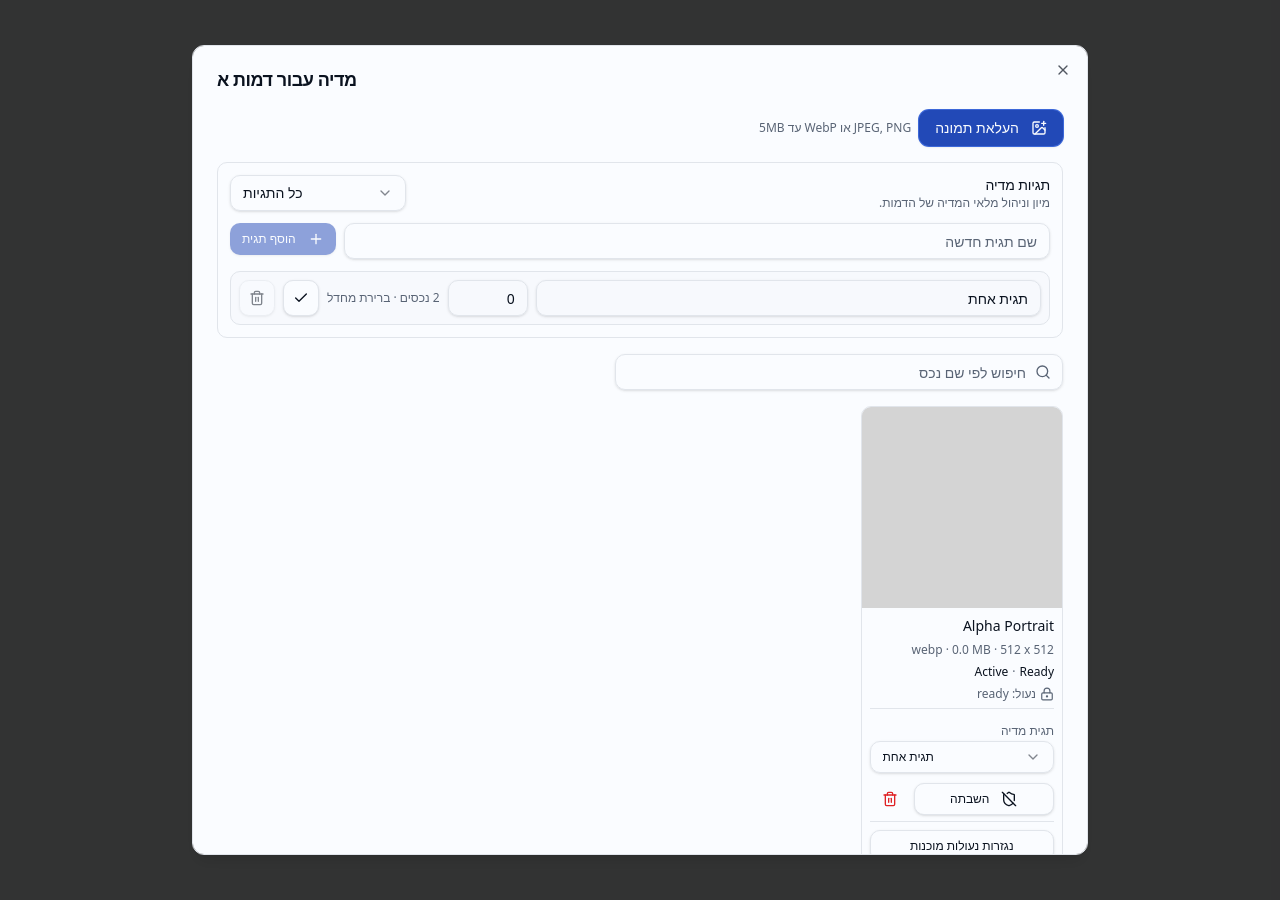
admin character media read states › preserves tag drafts and selection when a cached tags refresh fails
This screenshot has width=1280, height=900.
Step 1. Replace the text in the field showing "תגית אחת" with "טיוטה שלא תאבד" → (788, 298), box [536,280,1041,316]
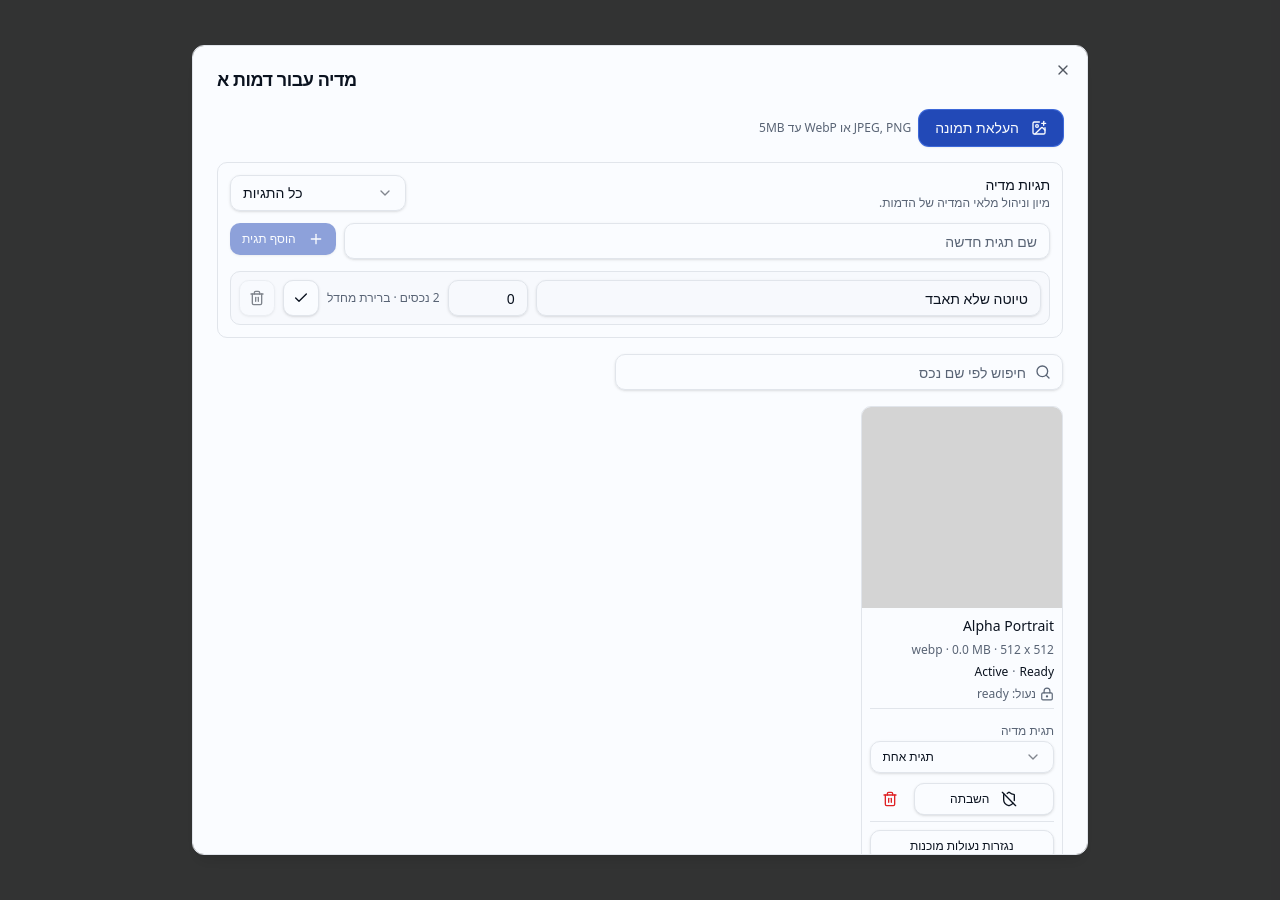
Step 2. Press ArrowDown in the dropdown named "סינון לפי תגית", box [230,175,406,211]
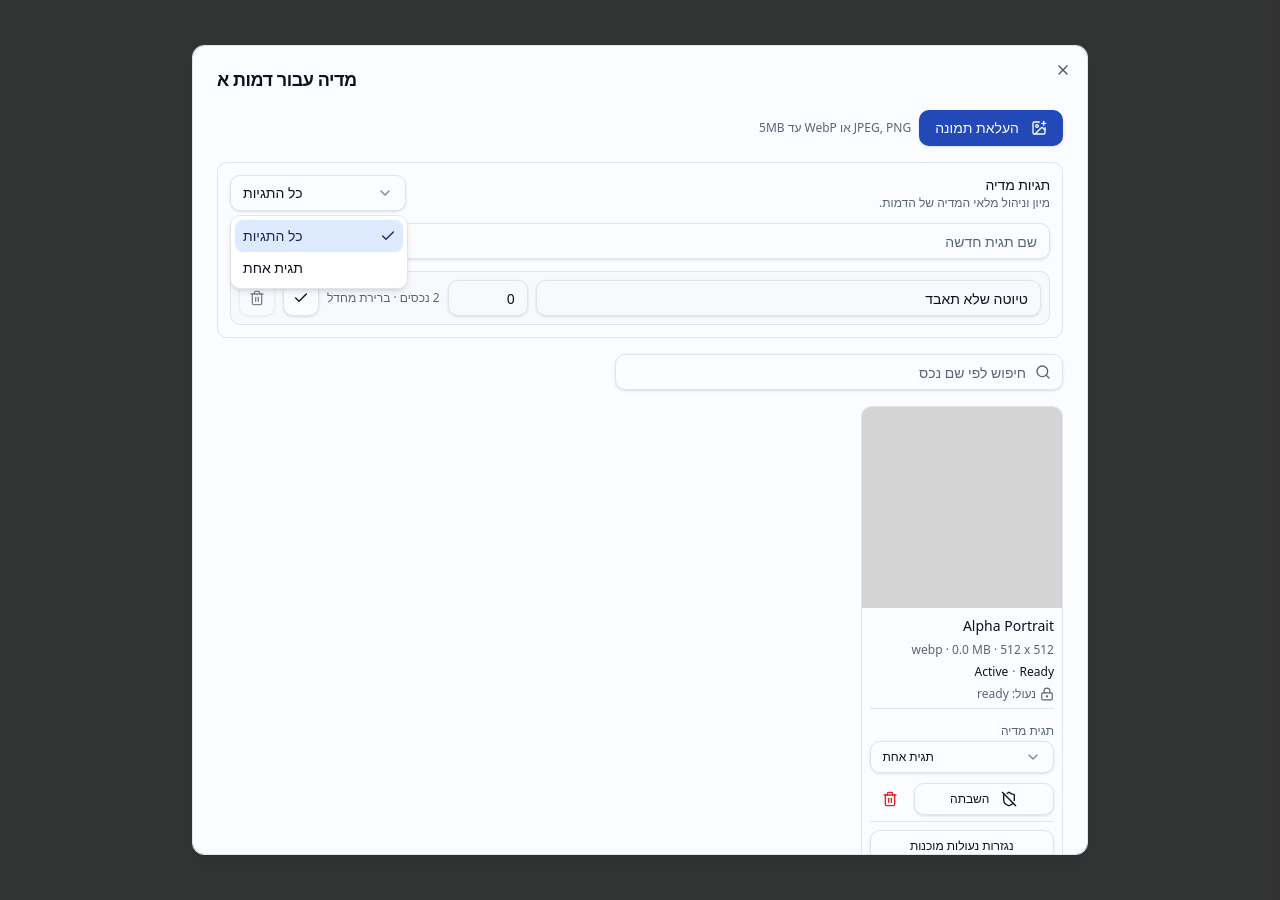
Step 3. Click the option "תגית אחת" → (273, 268), box [243,258,303,277]
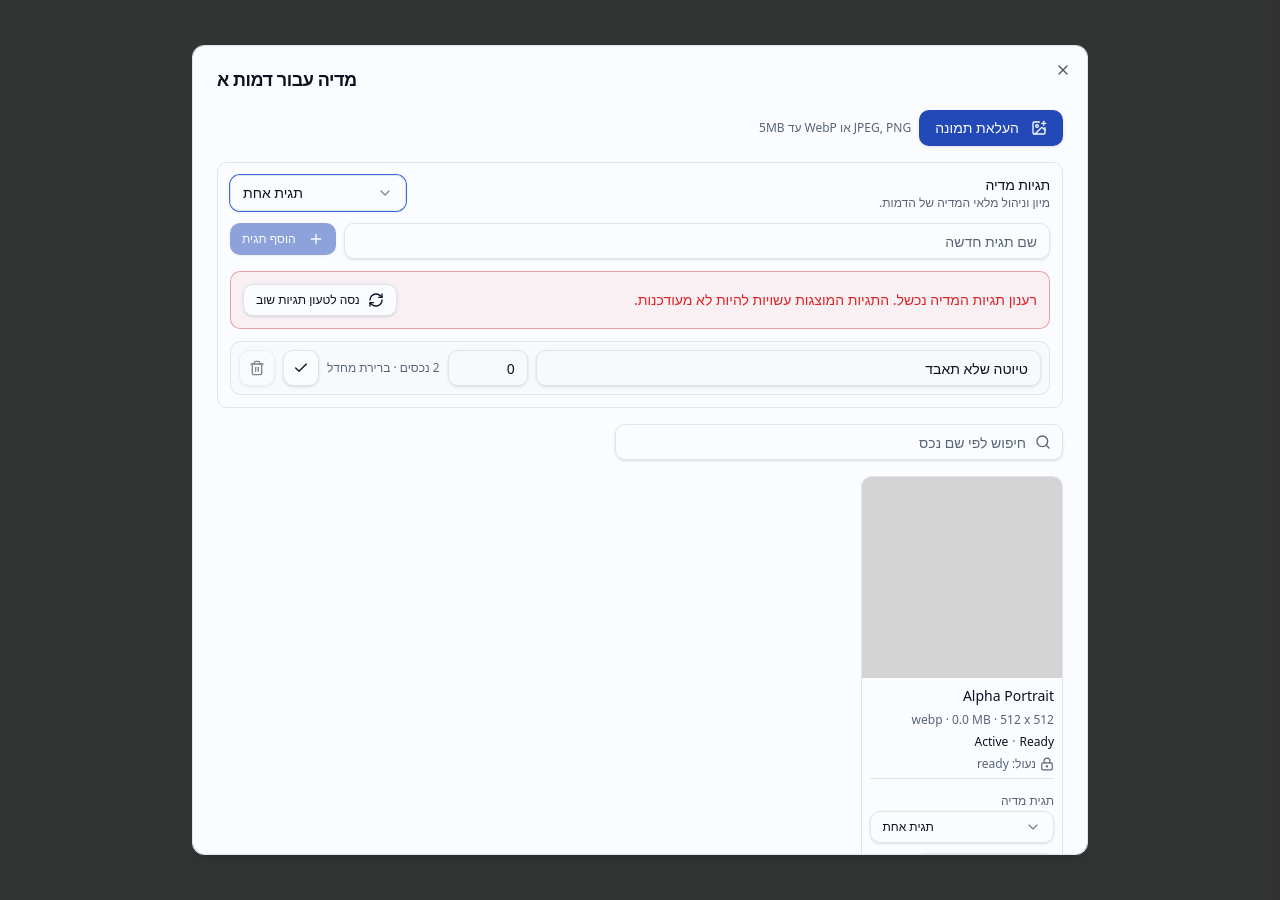
Expected: the message named "שגיאת טעינת תגיות" is shown, [230,271,1050,329]
Expected: the dropdown named "סינון לפי תגית" reads "תגית אחת", [230,175,406,211]
